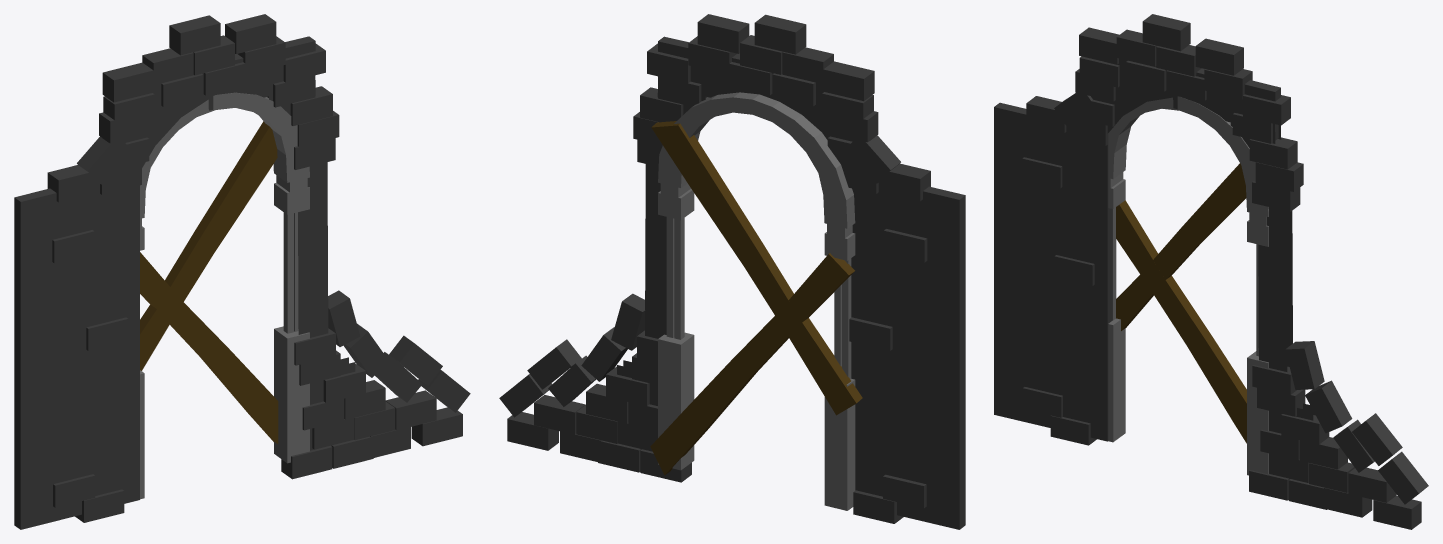
Rendered from Ruin_2.fbx.
3 views of the same model, side by side, from view 1: azimuth 30°, elevation 25°; view 2: azimuth 150°, elevation 25°; view 3: azimuth 330°, elevation 25° (orthographic). The views are drawn at different scales.
Visible parts, largest first — view 1: bricks, Wood barricade, Ruin 2; view 2: bricks, Ruin 2, Wood barricade; view 3: bricks, Wood barricade, Ruin 2.
Boxes of the visible parts, <box> form: bricks: <box>14,14,470,529</box>; Wood barricade: <box>140,121,278,443</box>; Ruin 2: <box>140,92,309,499</box>; bricks: <box>499,14,965,529</box>; Ruin 2: <box>658,92,855,510</box>; Wood barricade: <box>650,121,862,475</box>; bricks: <box>994,14,1428,529</box>; Wood barricade: <box>1116,163,1246,443</box>; Ruin 2: <box>1108,96,1268,475</box>.
Size of the model in its own units: 390 by 391 by 28.49.
